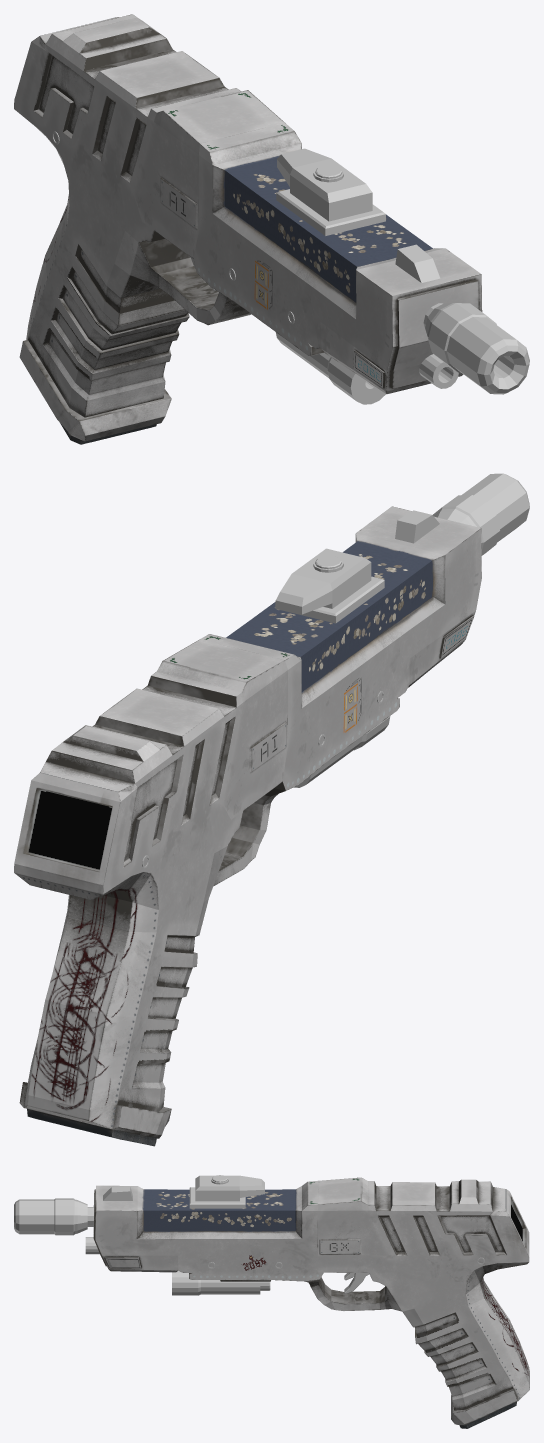
The model's file is pistola.fbx.
3 views of the same model, one above another, from view 1: azimuth 30°, elevation 25°; view 2: azimuth 150°, elevation 25°; view 3: azimuth 270°, elevation 25° (orthographic). The views are drawn at different scales.
Parts seen in each view (by area): view 1: Cube, Cylinder, Cube.002, Cylinder.002, Cube.001, Cylinder.003; view 2: Cube, Cube.002, Cylinder, Cube.001, Cylinder.002; view 3: Cube, Cylinder, Cube.002, Cylinder.002, Cube.001.
Part boxes in pixels (x1,y1,x2,y2): Cube: [14, 14, 482, 444]; Cylinder: [423, 303, 529, 394]; Cube.002: [276, 148, 385, 235]; Cylinder.002: [275, 332, 385, 404]; Cube.001: [395, 244, 440, 282]; Cylinder.003: [419, 354, 458, 388]; Cube: [14, 506, 481, 1146]; Cube.002: [275, 548, 384, 623]; Cylinder: [433, 473, 529, 555]; Cube.001: [395, 510, 439, 543]; Cylinder.002: [294, 716, 390, 787]; Cube: [93, 1177, 529, 1428]; Cylinder: [14, 1198, 93, 1235]; Cube.002: [189, 1175, 264, 1208]; Cylinder.002: [172, 1270, 270, 1295]; Cube.001: [103, 1186, 132, 1200].
Size of the model in its own units: 40.51 by 163 by 319.
